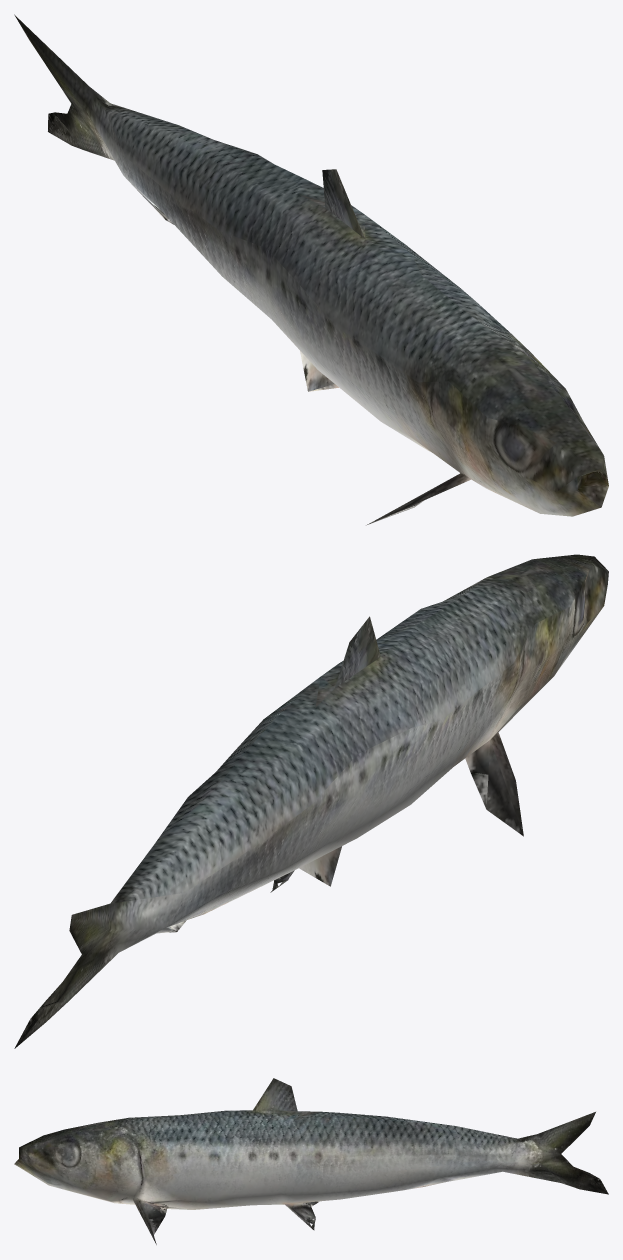
Rendered from sardine.glb.
3 renders of one model, top to bottom at view 1: azimuth 30°, elevation 25°; view 2: azimuth 150°, elevation 25°; view 3: azimuth 270°, elevation 25°, orthographic. The views are drawn at different scales.
Visible parts, largest first — view 1: sardine; view 2: sardine; view 3: sardine.
Part boxes in pixels (<box>): sardine: <box>14,14,608,525</box>; sardine: <box>14,554,608,1048</box>; sardine: <box>14,1078,608,1244</box>.
Bounding box in the file's own units: 0.0424 × 0.0527 × 0.2.
1 material, 1 textured.
